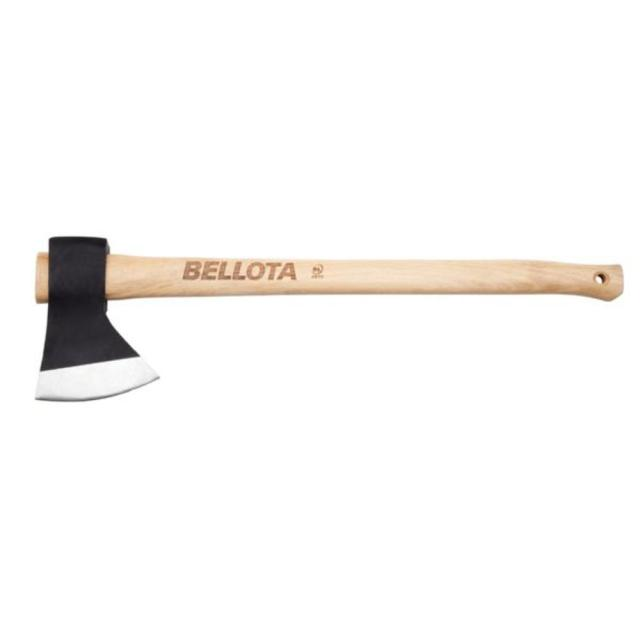Kapak: (50, 198, 624, 392)
